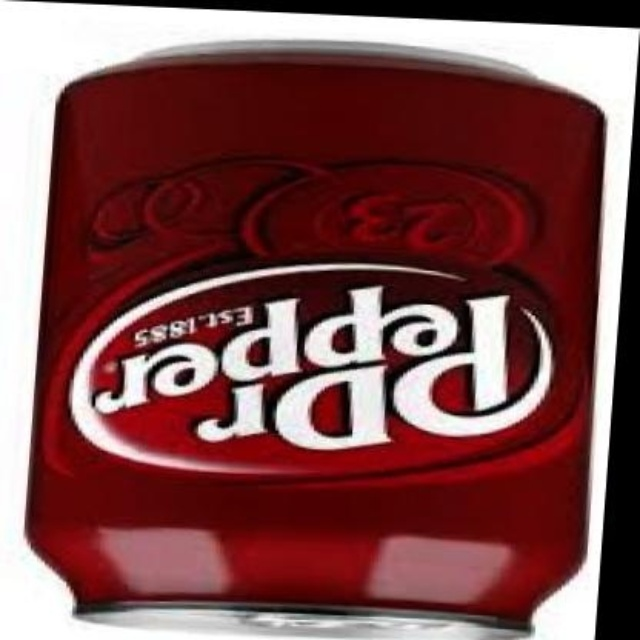trash: (26, 52, 603, 620)
